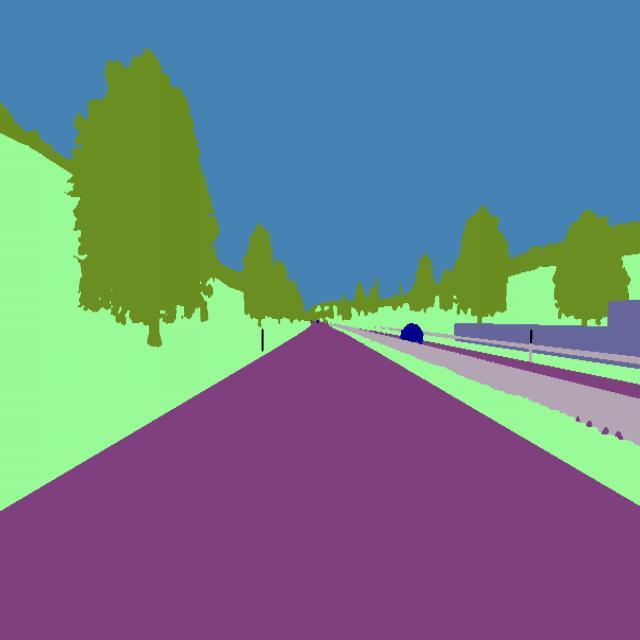safe: (398, 320, 426, 344)
